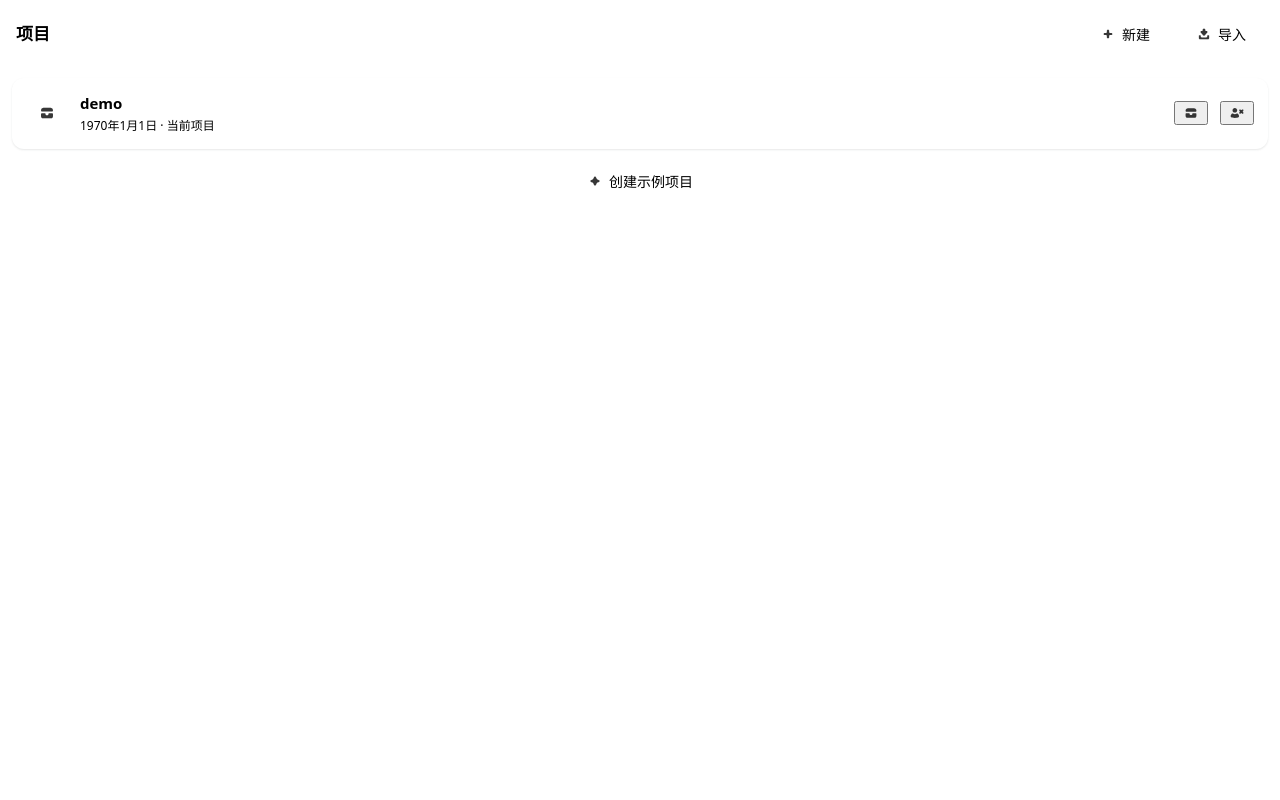
项目页：删除 › 有未保存修改时删除提示里明确警告
The width and height of the screenshot is (1280, 800).
Click the button named "删除 demo" at (1237, 113), box [1220, 101, 1254, 125]
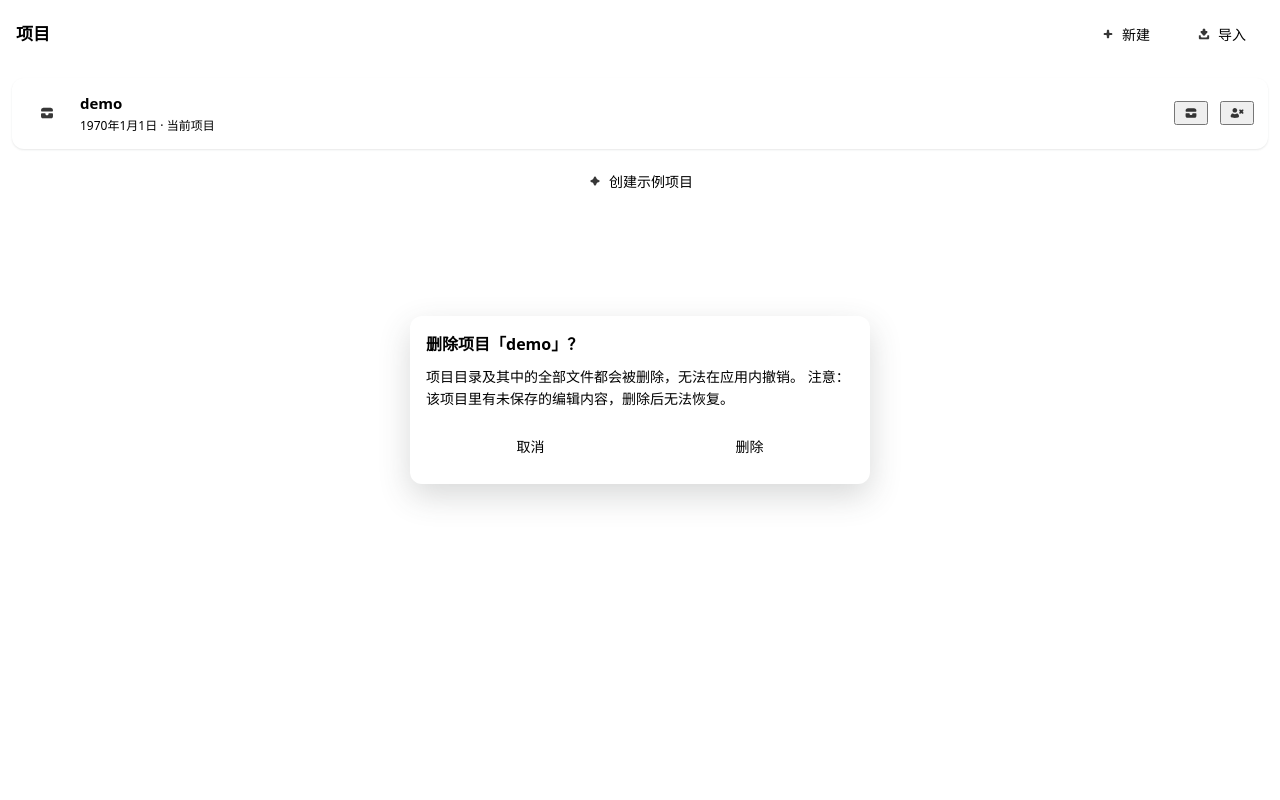
Now the text "项目目录及其中的全部文件都会被删除，无法在应用内撤销。 注意：该项目里有未保存的编辑内容，删除后无法恢复。" is shown, box [426, 366, 854, 410]
